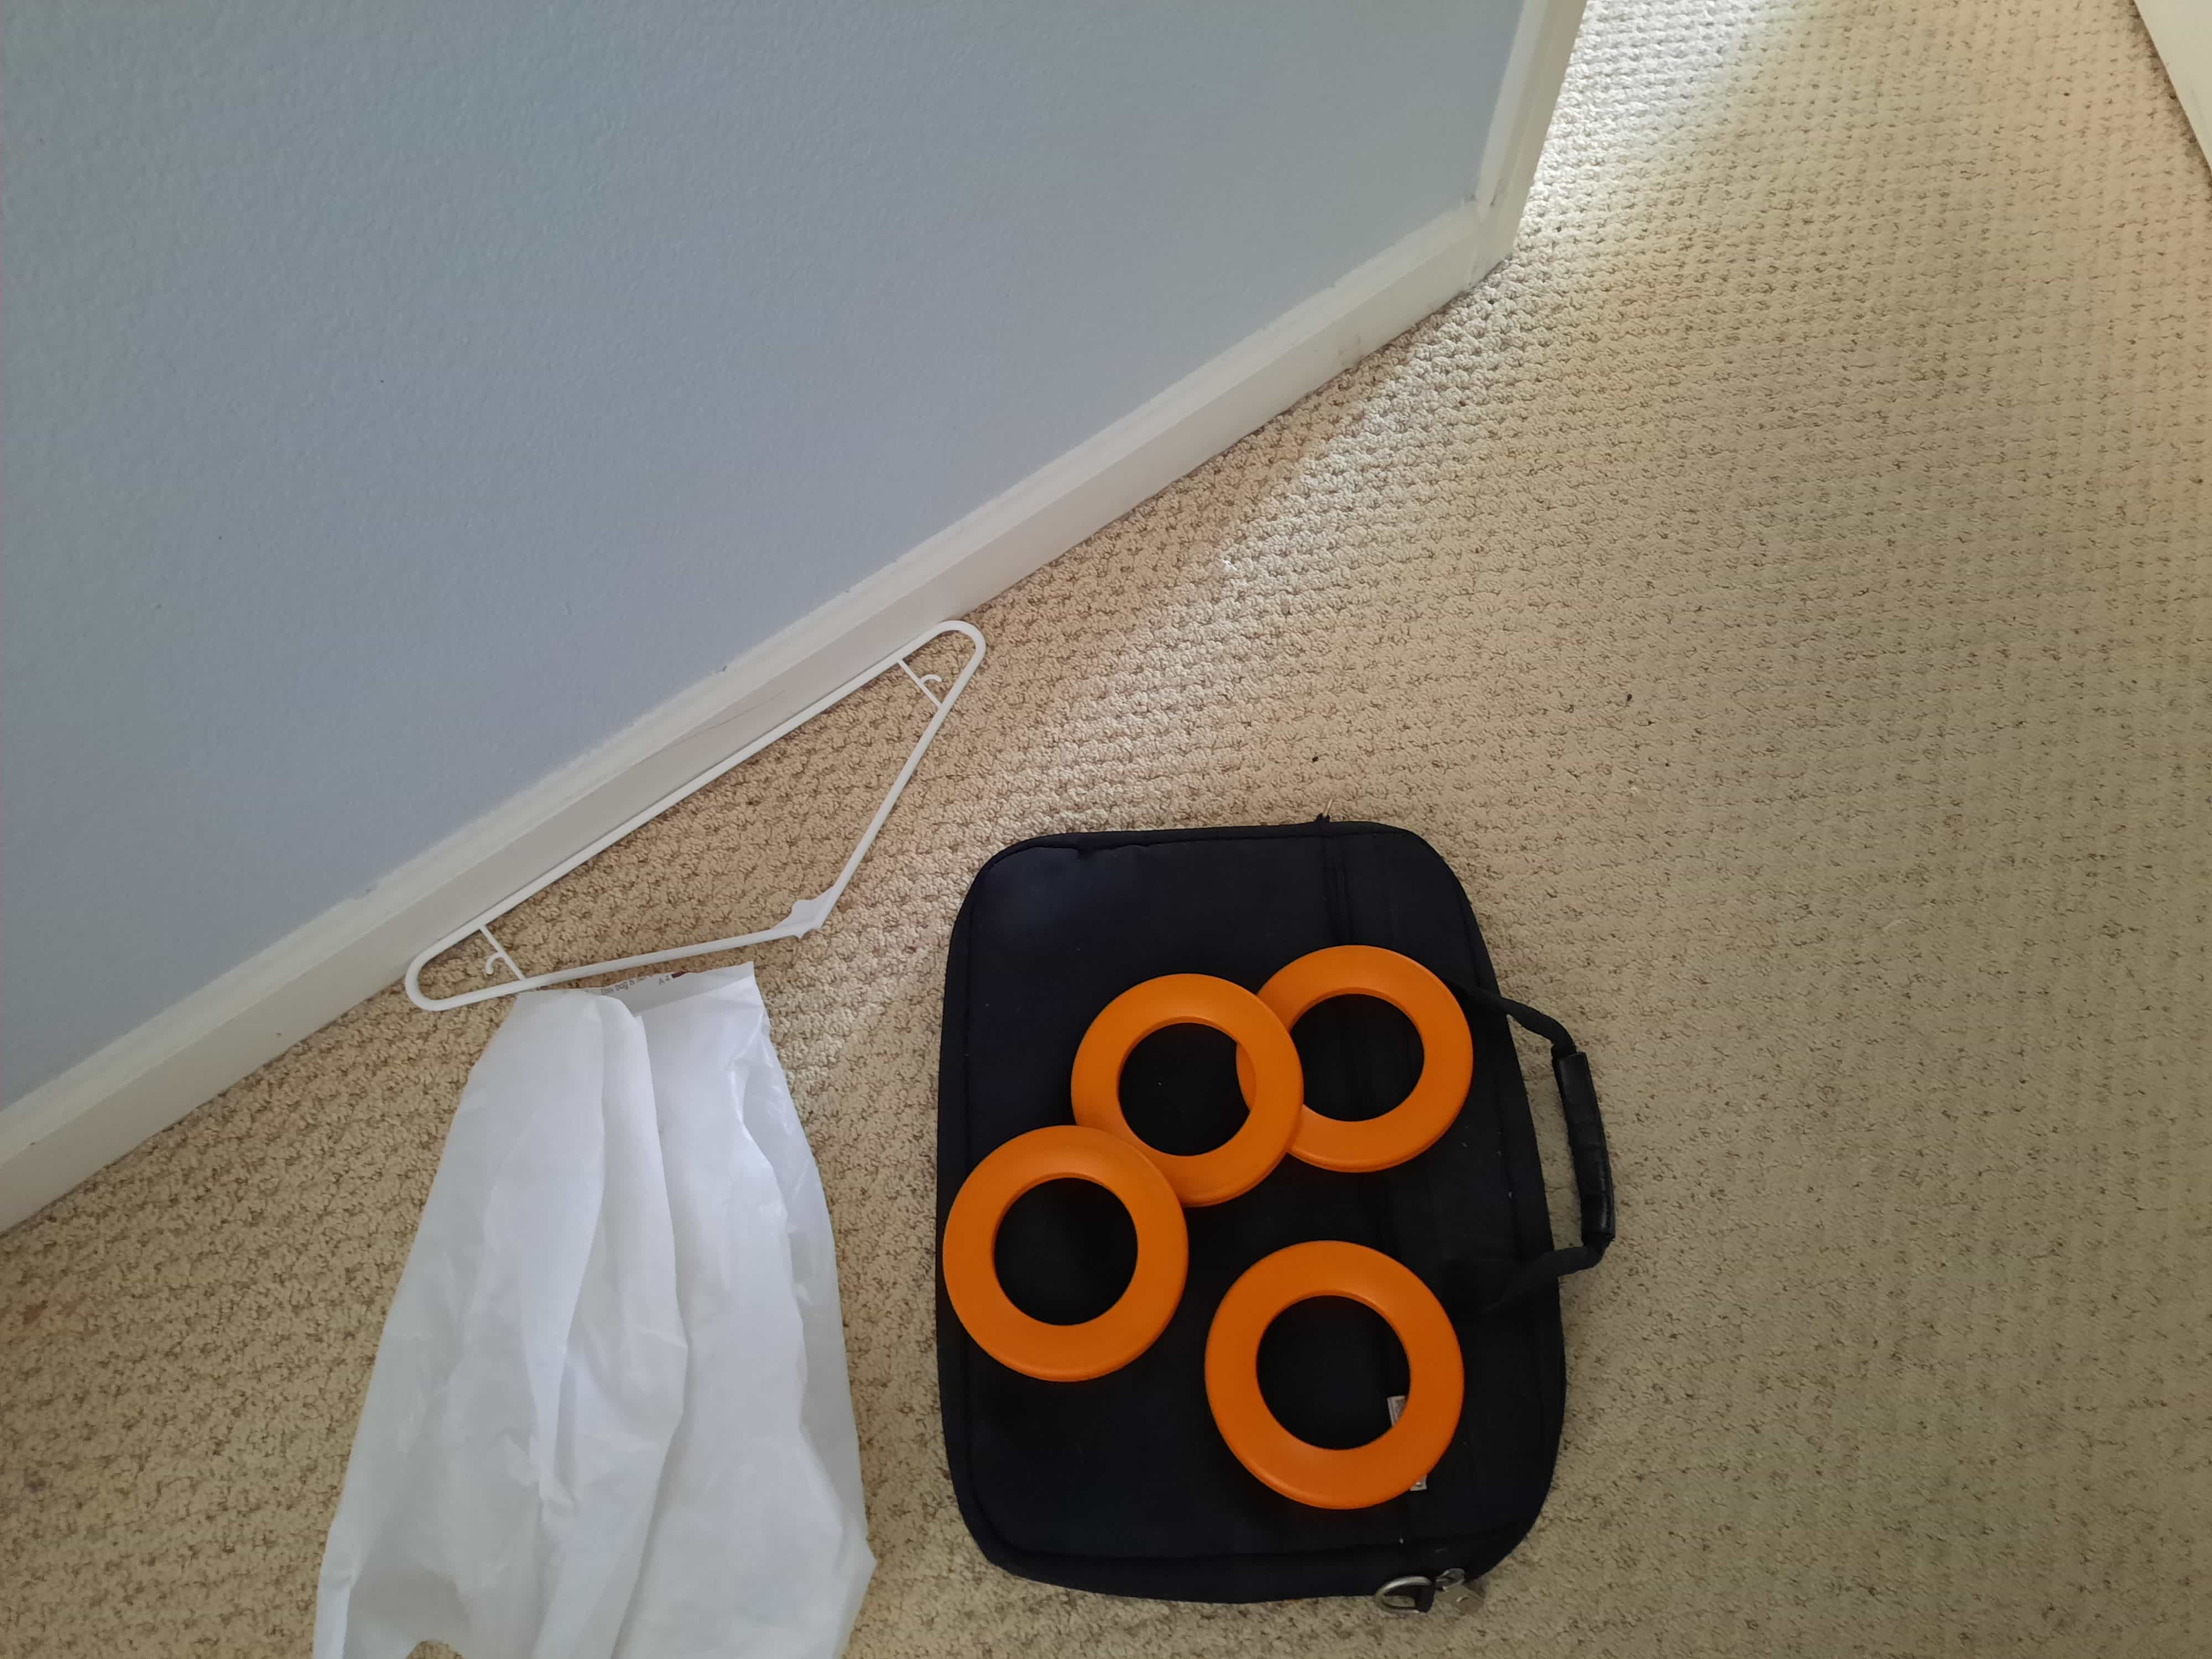OneStack: (1212, 1241, 1463, 1518), (944, 1131, 1190, 1377), (1071, 972, 1299, 1208), (1245, 960, 1474, 1164)
